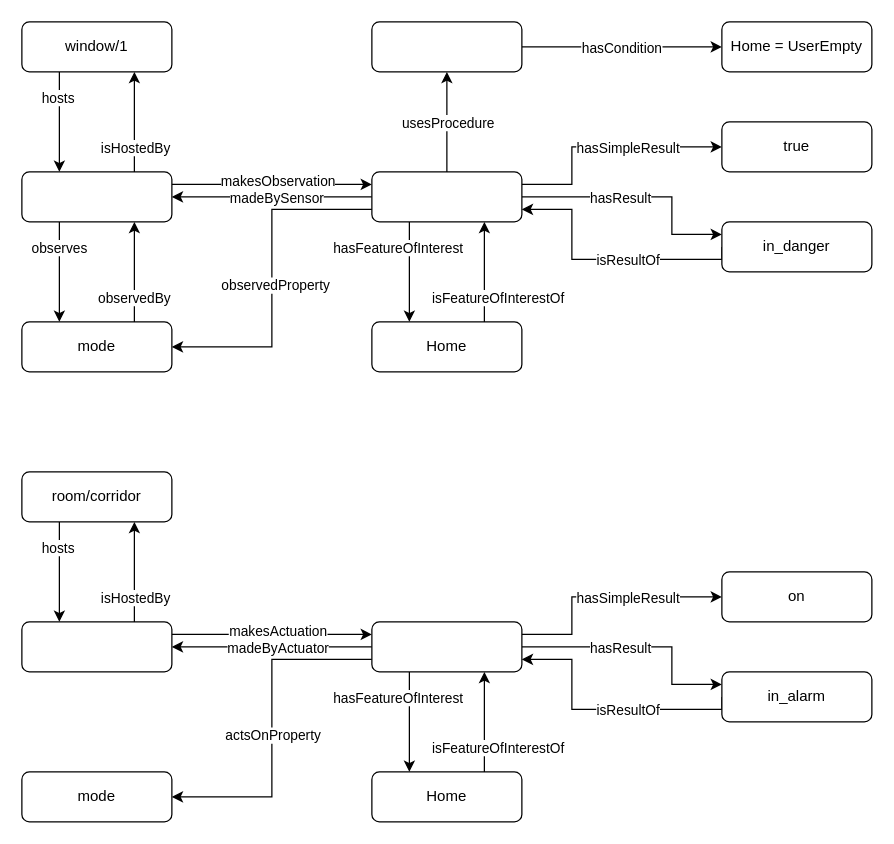
The diagram is 894 pixels wide and 844 high, and some of its shapes have lost their labels. The centre of each missing label's shape, as x and y in pixels:
Actuation/1: the point at 446,646
alarm_siren/1: the point at 96,646
Observation/1: the point at 446,196
Procedure/1: the point at 446,46
window_sensor/1: the point at 96,196
